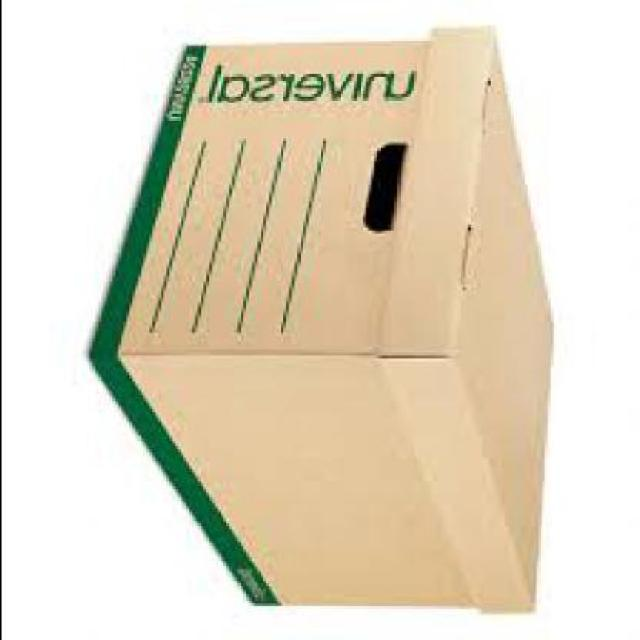CARDBOARD: (88, 32, 554, 618)
